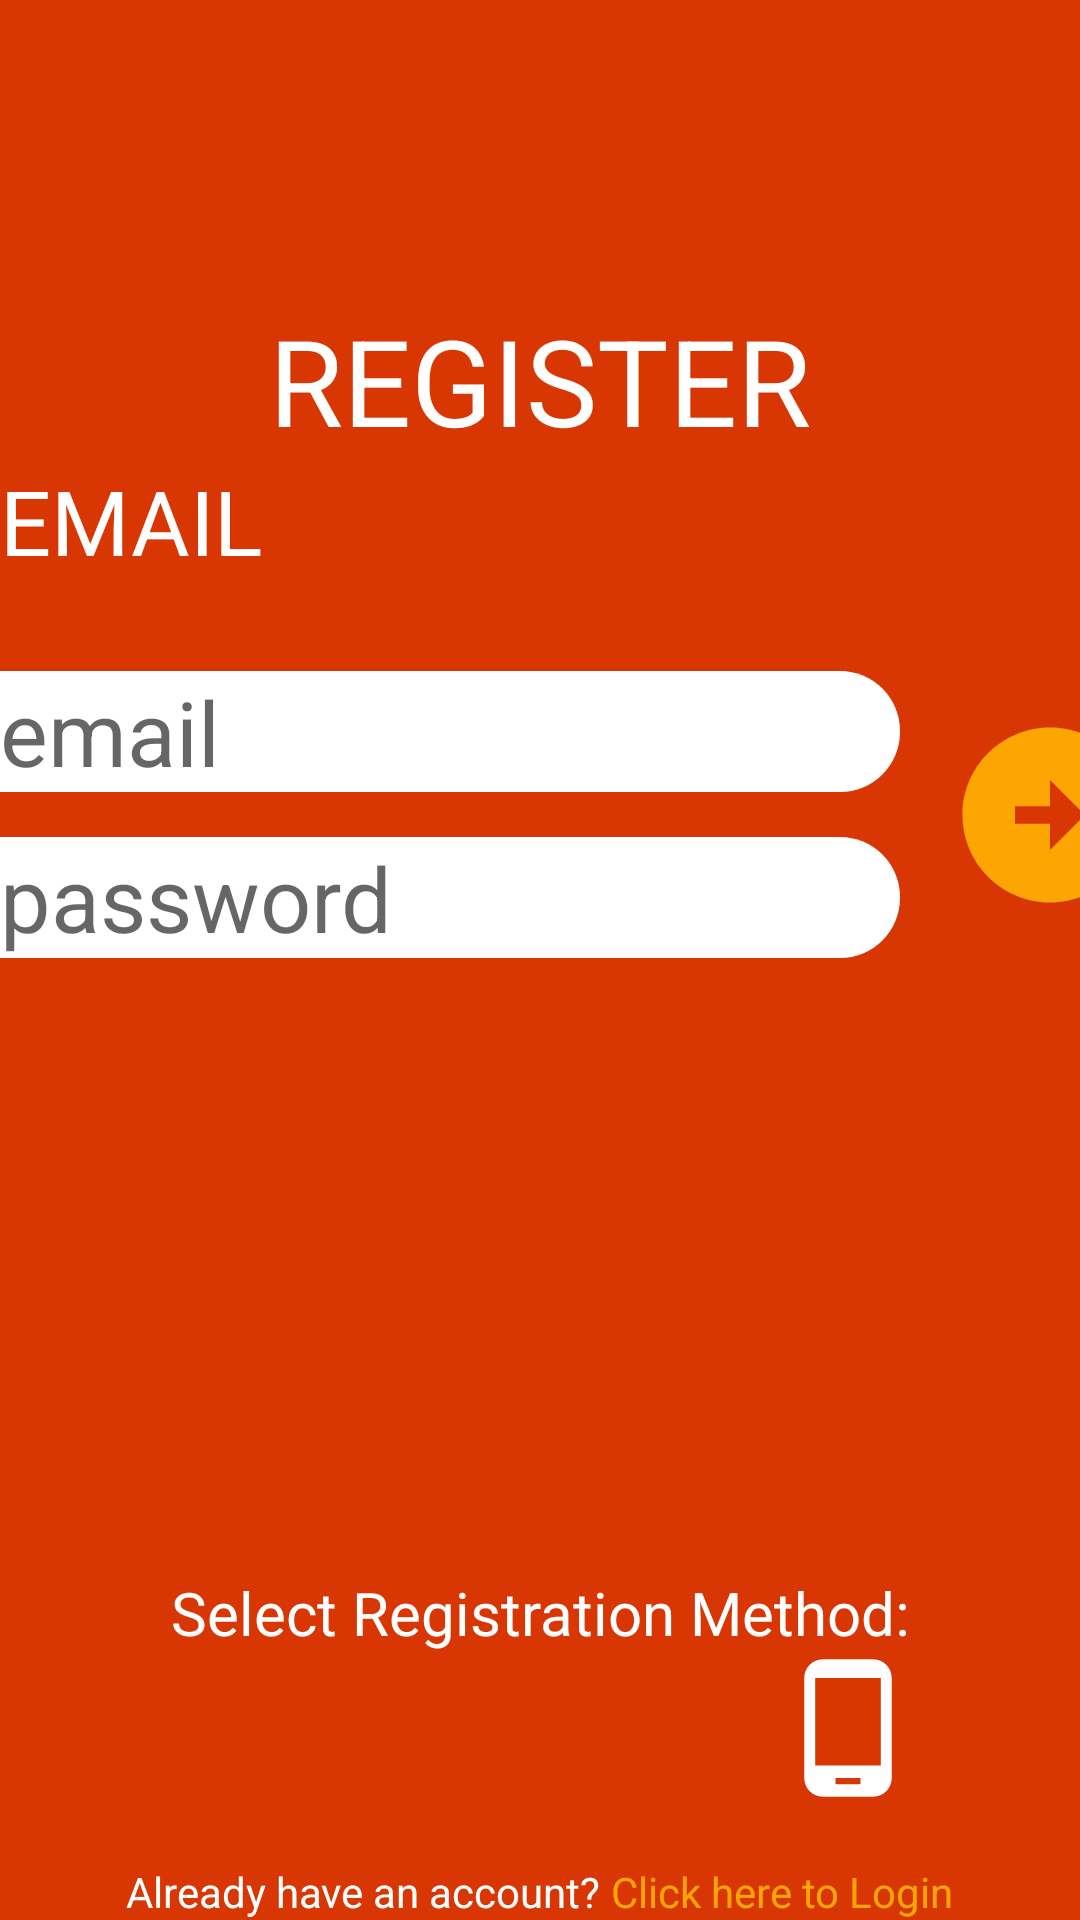

Point at icon controls on the screen. Image size 1080px×1920px, points as (x=x, y=y).
phone android: (x=848, y=1728)
